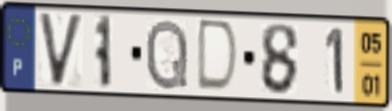1: (92, 12, 114, 93), (323, 26, 345, 99)
8: (258, 21, 301, 97)
D: (194, 17, 242, 97)
Q: (144, 17, 191, 93)
V: (36, 11, 86, 91)
